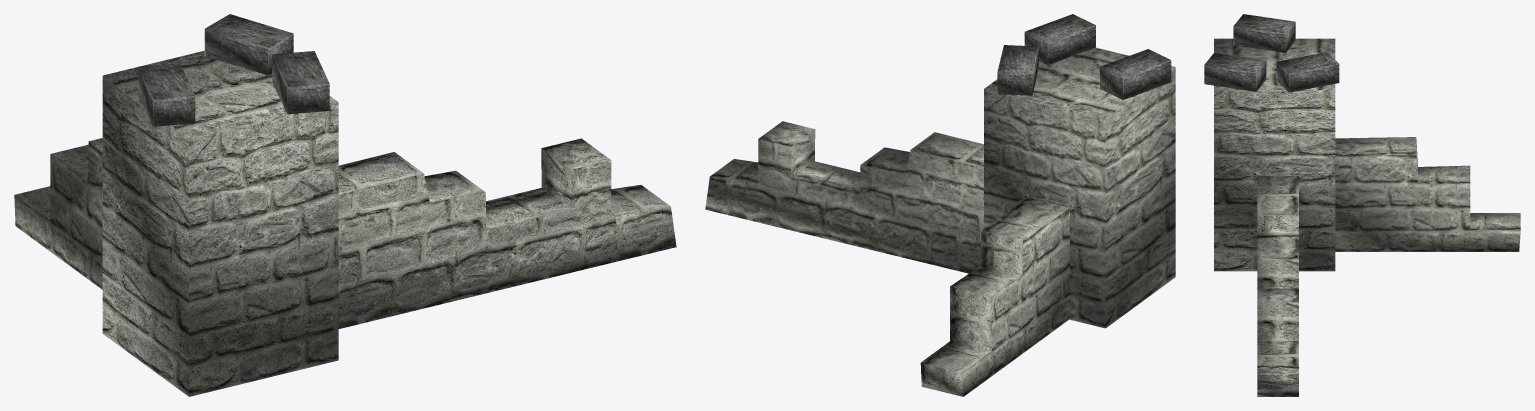
The model's file is Ruin_Foundation.glb.
The picture shows the model from 3 angles, left to right: view 1: azimuth 30°, elevation 25°; view 2: azimuth 150°, elevation 25°; view 3: azimuth 270°, elevation 25°; orthographic projection. The views are drawn at different scales.
Parts seen in each view (by area): view 1: geom-foundationRuinOne200; view 2: geom-foundationRuinOne200; view 3: geom-foundationRuinOne200.
Part boxes in pixels (box(x1,y1,x2,y2)): geom-foundationRuinOne200: box(14, 14, 676, 396); geom-foundationRuinOne200: box(705, 14, 1175, 396); geom-foundationRuinOne200: box(1204, 14, 1520, 396).
Bounding box in the file's own units: 6 × 3.07 × 4.39.
Materials: 2 (2 with a texture image).
